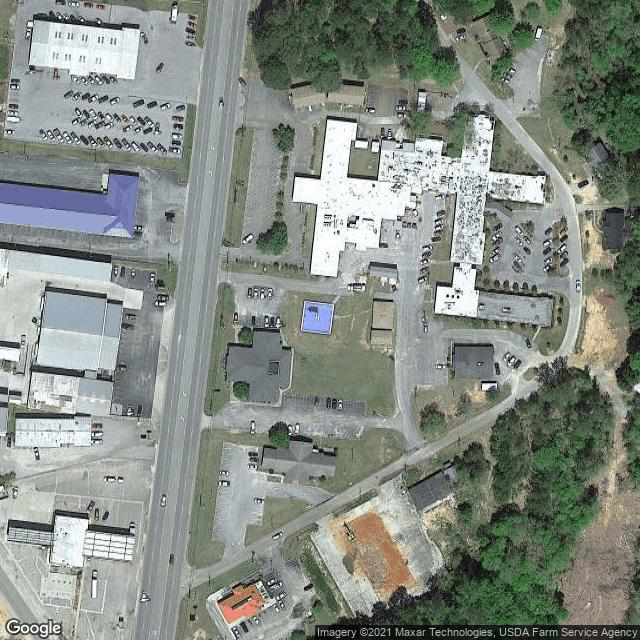Helipad: (298, 297, 336, 336)
